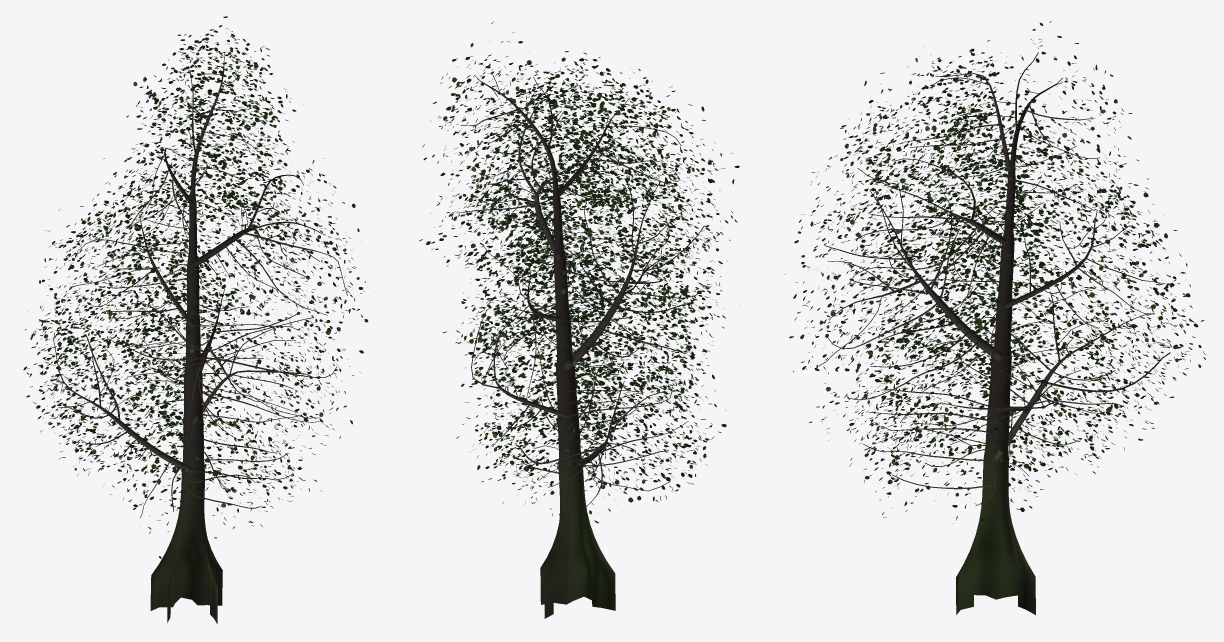
File: SM_Tree_alder_1.glb
3 views of the same model, side by side, from view 1: azimuth 30°, elevation 25°; view 2: azimuth 150°, elevation 25°; view 3: azimuth 270°, elevation 25° (orthographic). The views are drawn at different scales.
Parts seen in each view (by area): view 1: SM_Tree_alder_1; view 2: SM_Tree_alder_1; view 3: SM_Tree_alder_1.
Boxes of the visible parts, x1,y1,x2,y2 form: SM_Tree_alder_1: [23, 16, 368, 623]; SM_Tree_alder_1: [419, 22, 740, 618]; SM_Tree_alder_1: [784, 21, 1205, 614].
Bounding box in the file's own units: 6.21 × 12.57 × 7.95.
